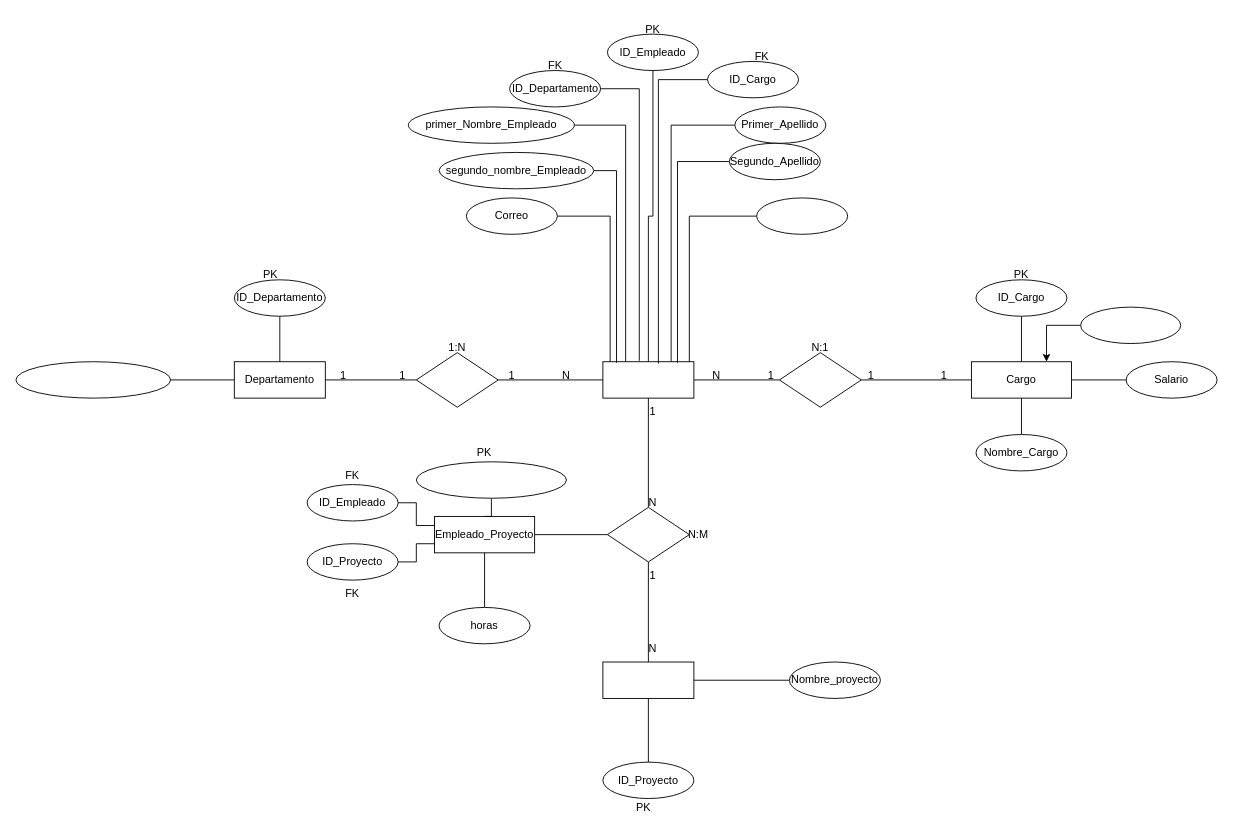
Image size: 1233x836. Some labels were removed from this diagram. The centre of each missing label's shape, as x and y in pixels:
"Empleado" goes at [648,379].
"Genero" goes at [802,215].
"ID_Empleado_proyecto" goes at [490,479].
"Nivel_Cargo" goes at [1130,325].
"Nombre_Departamento" goes at [93,379].
"Ocupar" goes at [820,379].
"Proyecto" goes at [648,679].
"Tener" goes at [456,379].
"Trabajar" goes at [648,534].
